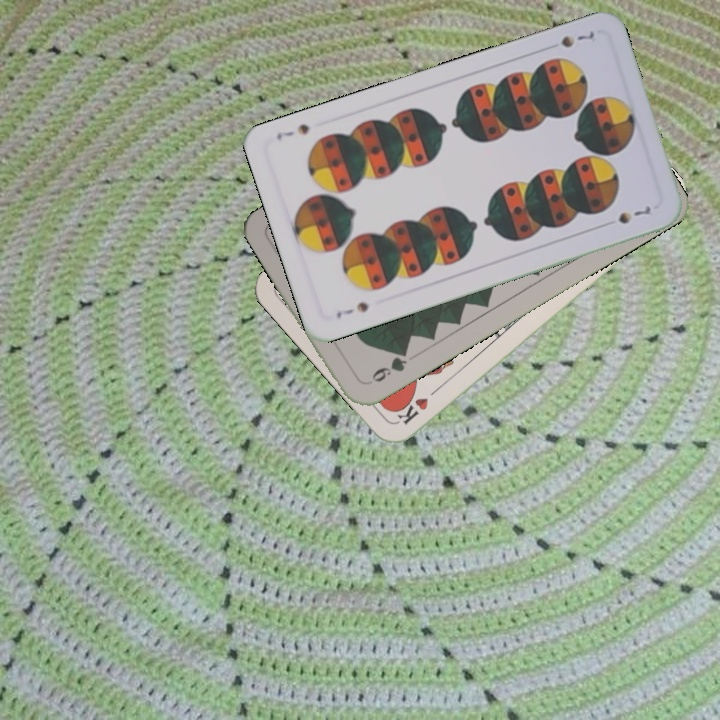G9: (362, 345, 411, 388)
HK: (392, 381, 444, 427)
S7: (556, 27, 597, 50), (332, 298, 372, 321)
